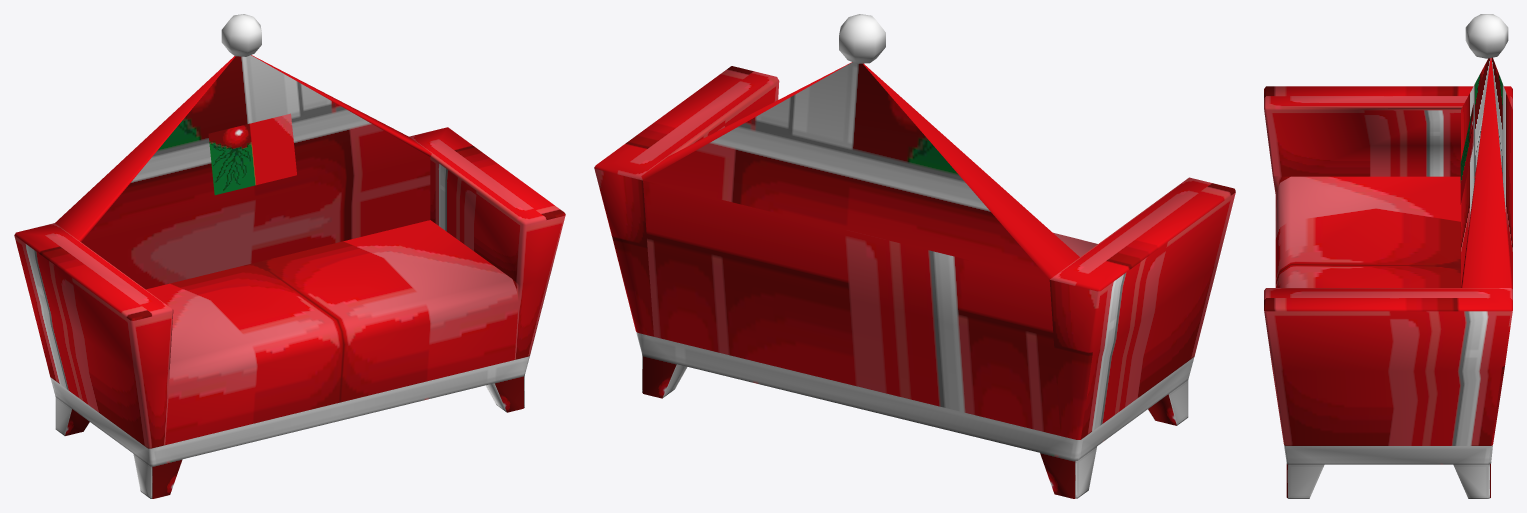
Rendered from int_xms_chairL.dae.
The picture shows the model from 3 angles, left to right: view 1: azimuth 30°, elevation 25°; view 2: azimuth 150°, elevation 25°; view 3: azimuth 270°, elevation 25°; orthographic projection. The views are drawn at different scales.
Parts seen in each view (by area): view 1: int_xms_chairL; view 2: int_xms_chairL; view 3: int_xms_chairL.
Boxes of the visible parts, left/top/right/bottom form: int_xms_chairL: left=14, top=14, right=565, bottom=498; int_xms_chairL: left=594, top=14, right=1235, bottom=498; int_xms_chairL: left=1264, top=14, right=1512, bottom=498.
Size of the model in its own units: 55.8 by 45.18 by 26.3.
Materials: 1 (1 with a texture image).
